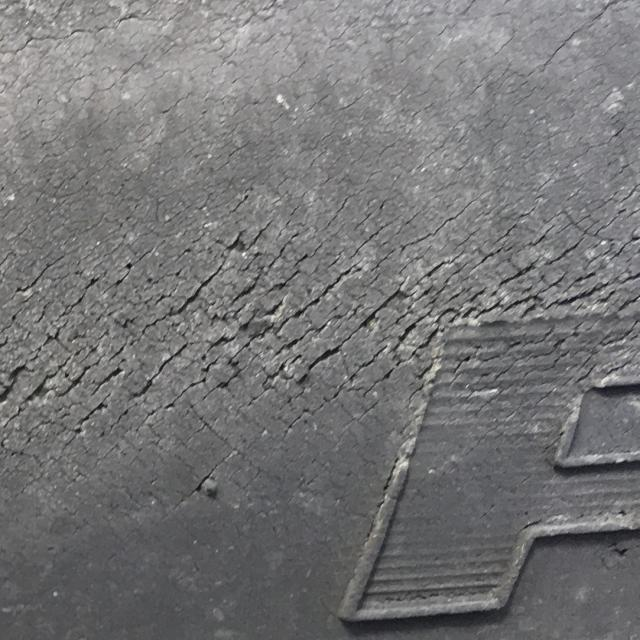Cracks: (0, 0, 639, 517)
